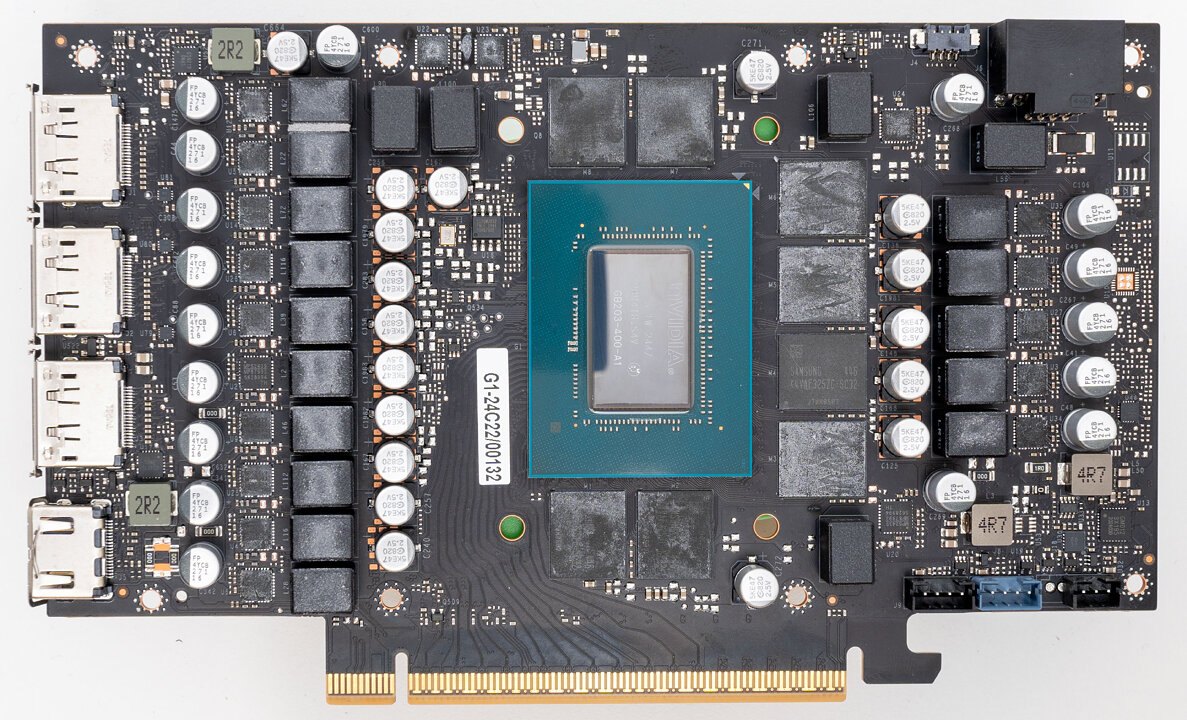Induktor: (209, 26, 258, 75), (965, 499, 1014, 548), (1068, 452, 1114, 496), (125, 482, 173, 524)
